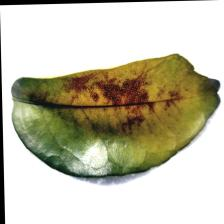black spot: (50, 72, 170, 134)
